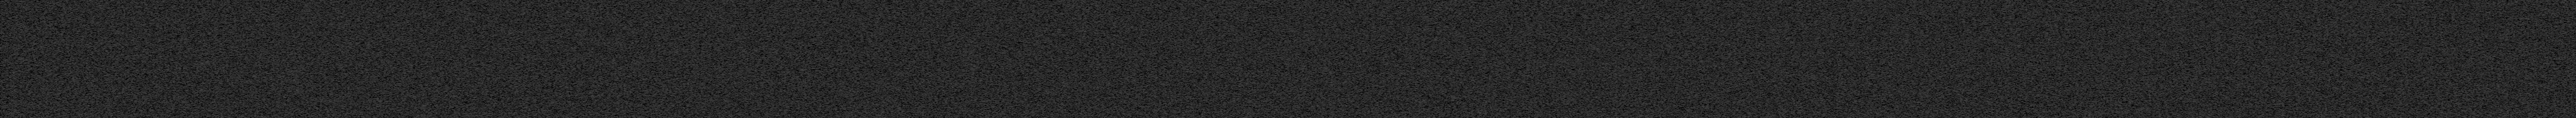wv_am: (2364, 0, 2369, 118), (797, 0, 800, 118), (273, 0, 276, 118)
wv_cw: (672, 0, 675, 118), (2106, 0, 2109, 118)
wv_lsb: (333, 0, 337, 118)
wv_usb: (353, 25, 356, 118), (2083, 28, 2086, 110), (353, 0, 356, 20), (2083, 8, 2086, 21), (2083, 111, 2086, 118), (2083, 0, 2086, 7), (2083, 21, 2086, 26), (353, 21, 356, 25)
wv_wbfm: (677, 0, 705, 118)
